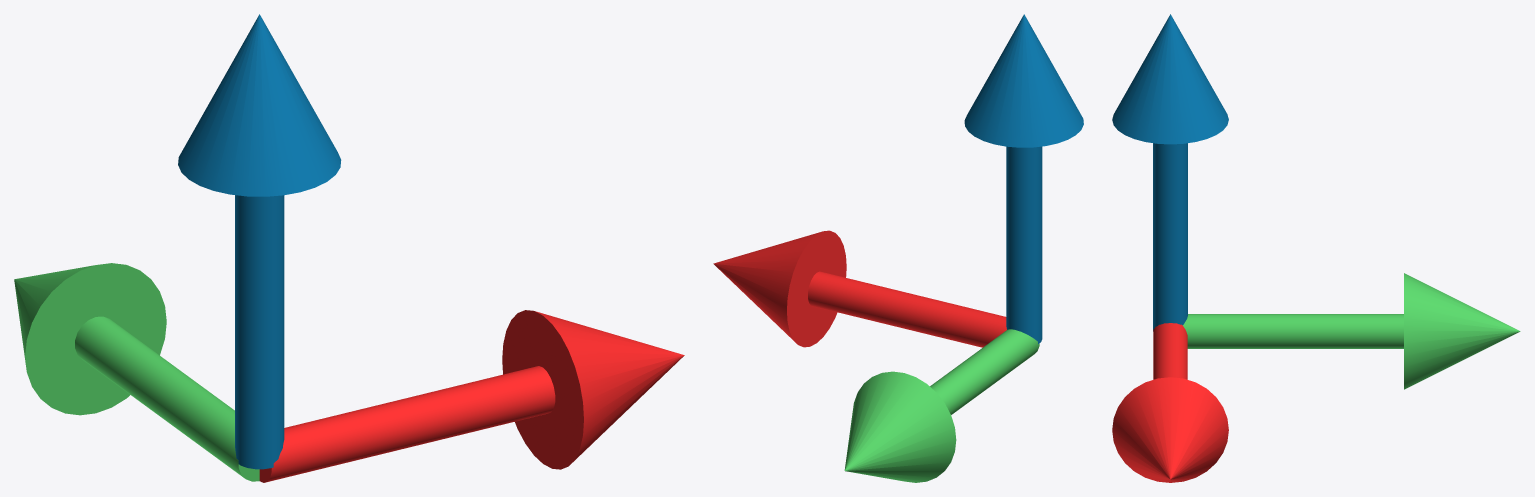
Rendered from Translate.fbx.
3 views of the same model, side by side, from view 1: azimuth 30°, elevation 25°; view 2: azimuth 150°, elevation 25°; view 3: azimuth 270°, elevation 25° (orthographic). The views are drawn at different scales.
Parts seen in each view (by area): view 1: Z_Axis, X_Axis, Y_Axis; view 2: Z_Axis, X_Axis, Y_Axis; view 3: Z_Axis, Y_Axis, X_Axis.
Boxes of the visible parts, <box> form: Z_Axis: <box>178,14,341,469</box>; X_Axis: <box>259,310,684,482</box>; Y_Axis: <box>14,263,259,481</box>; Z_Axis: <box>964,14,1083,343</box>; X_Axis: <box>713,230,1006,347</box>; Y_Axis: <box>844,329,1039,482</box>; Z_Axis: <box>1112,14,1228,331</box>; Y_Axis: <box>1183,273,1520,389</box>; X_Axis: <box>1112,323,1228,482</box>.
Bounding box in the file's own units: 70 × 70 × 70.
